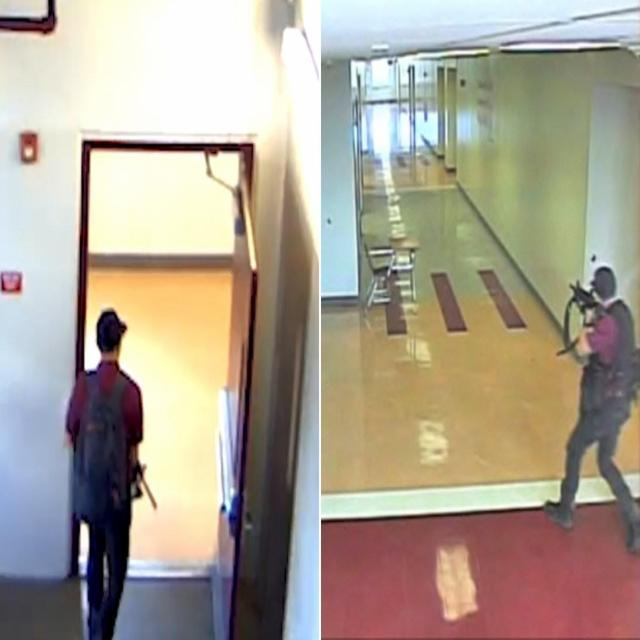gun: (565, 277, 613, 336), (123, 444, 157, 516)
